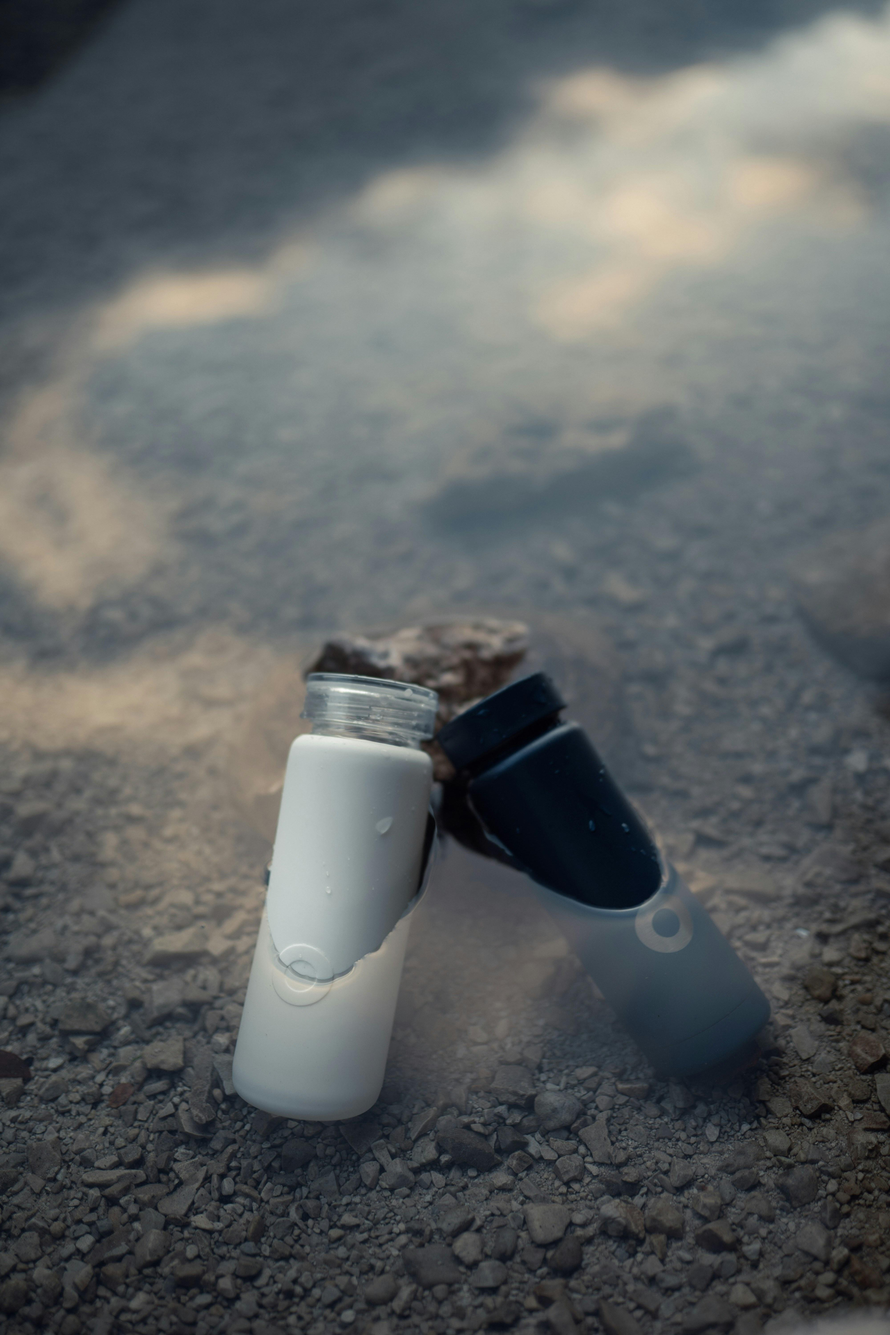Bottle-Detection: (434, 645, 828, 1124), (202, 632, 456, 1155)
